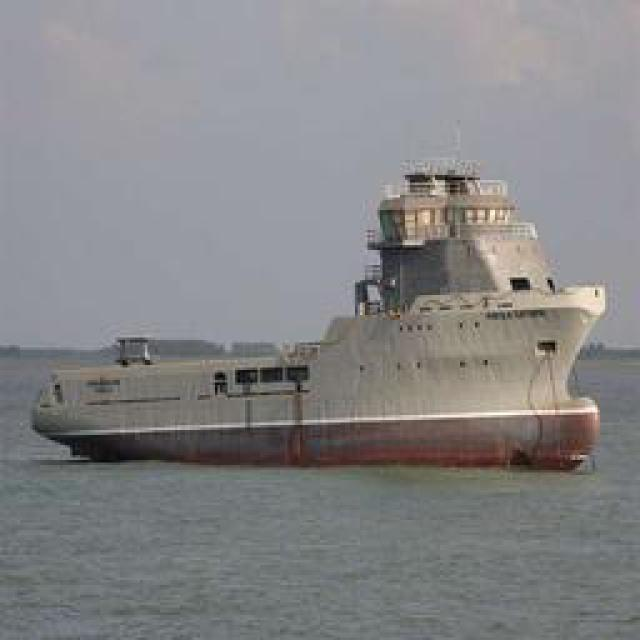Ship: (51, 133, 599, 471)
